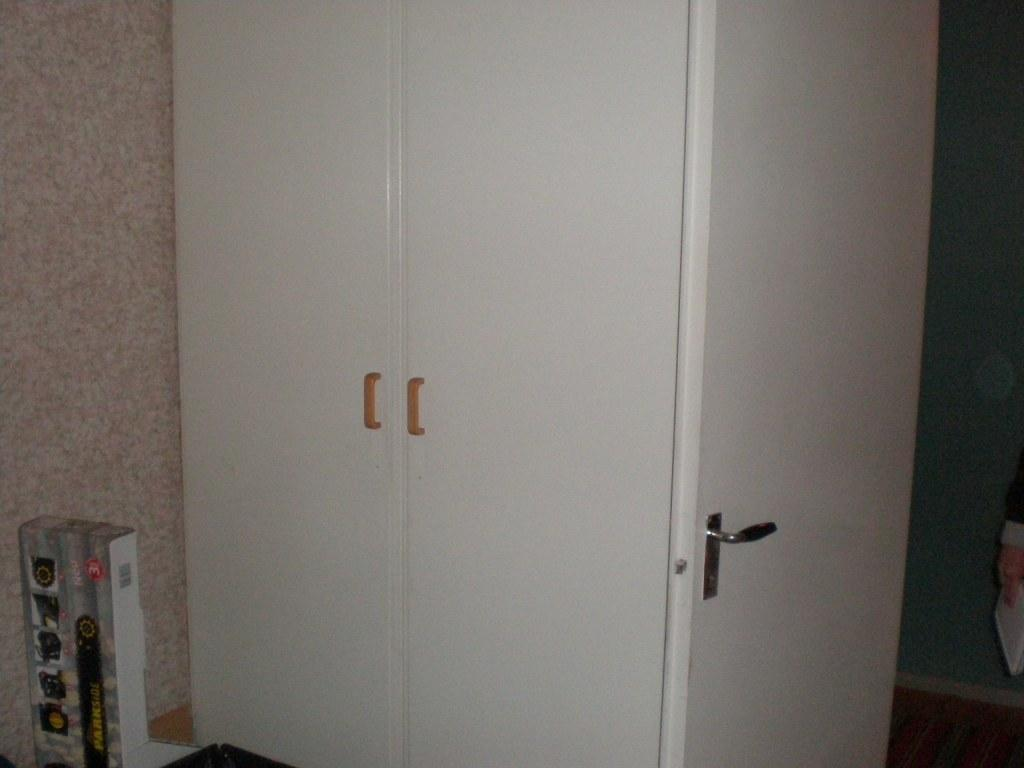cabinet_door: (401, 18, 680, 768), (182, 11, 400, 762)
handle: (718, 509, 778, 562), (358, 365, 392, 442), (402, 368, 430, 443)
